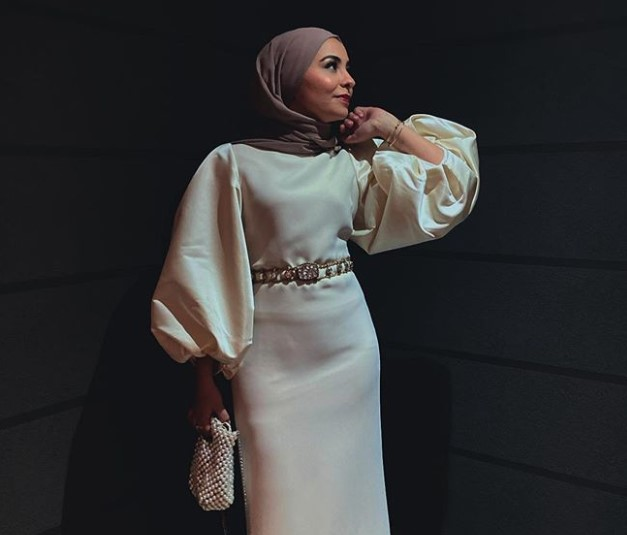face_no_mask: (281, 25, 364, 135)
